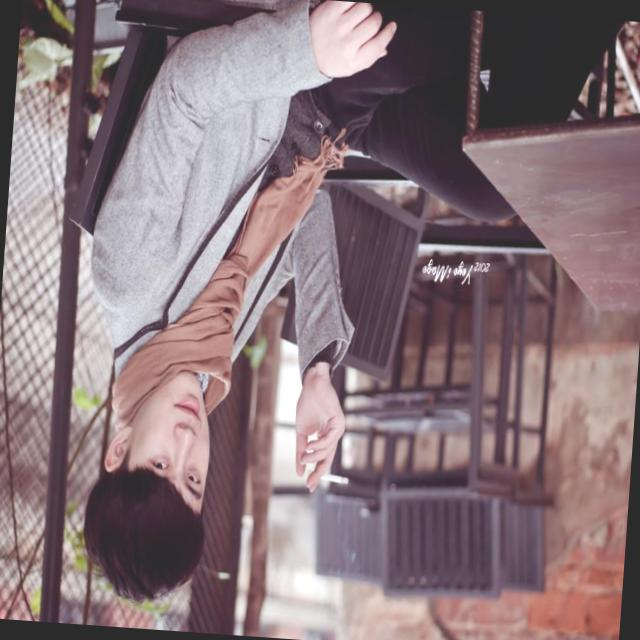smoke: (264, 431, 358, 511)
